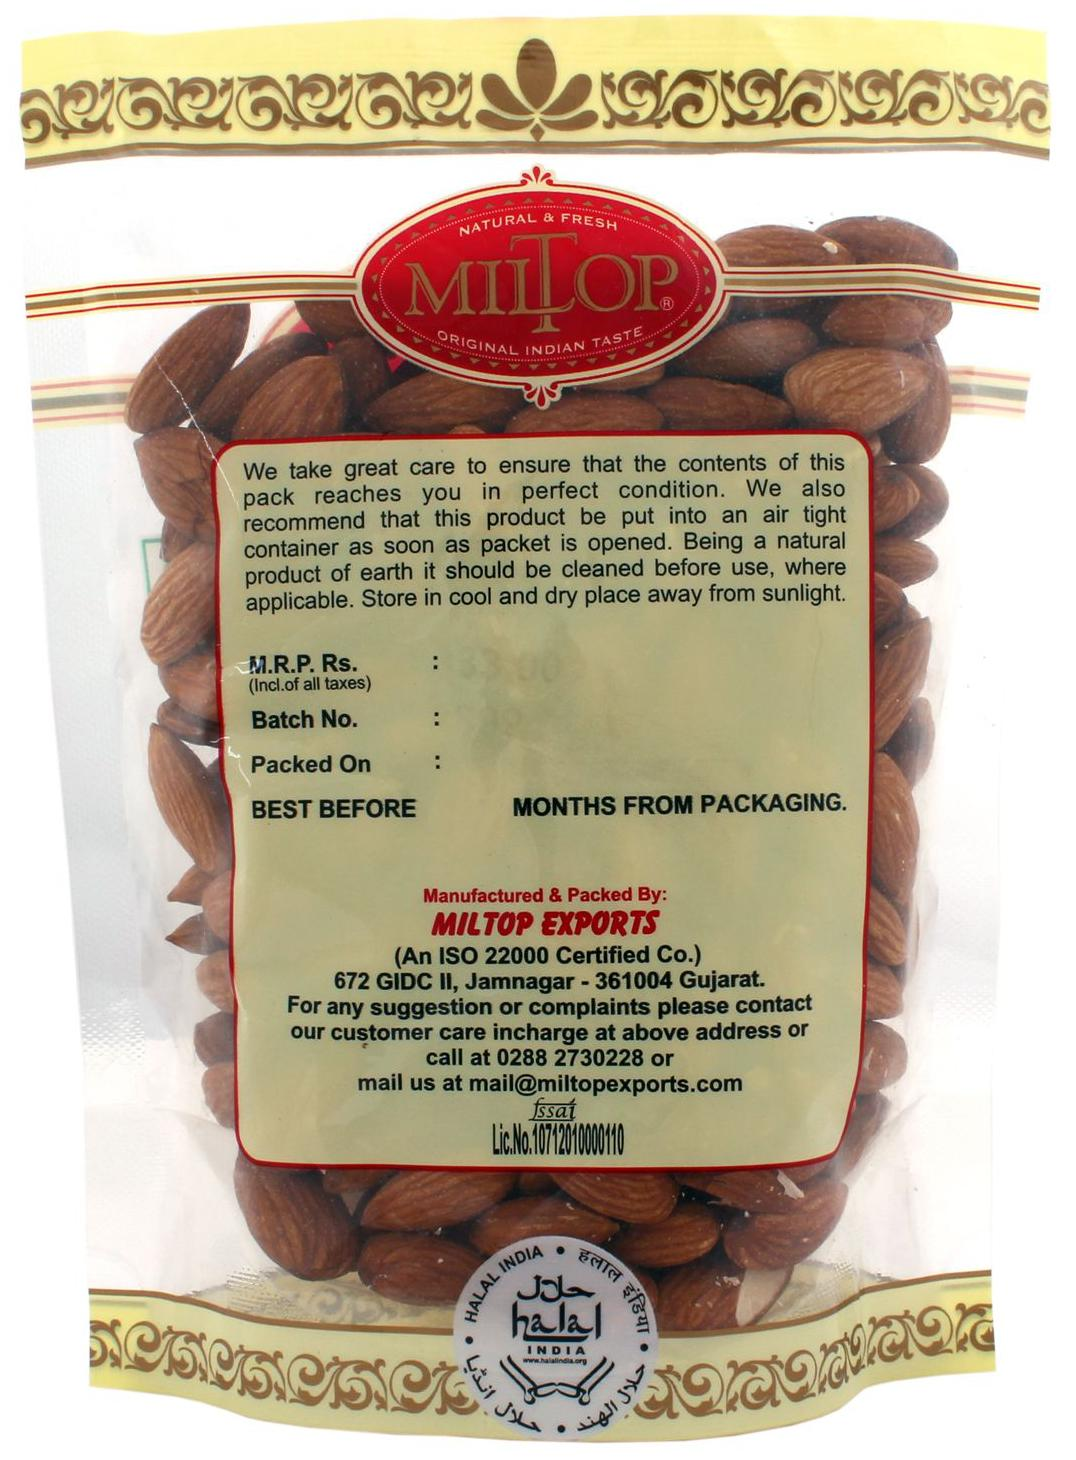fssai: (528, 1097, 577, 1121)
